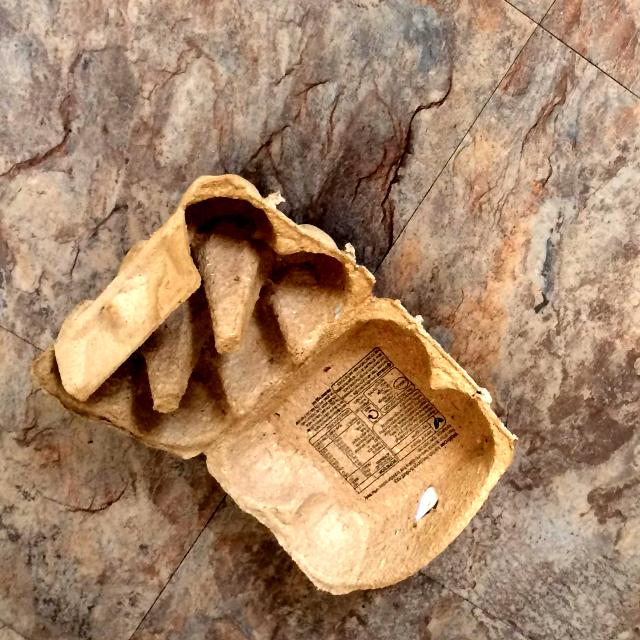Cardboard: (8, 153, 537, 612)
